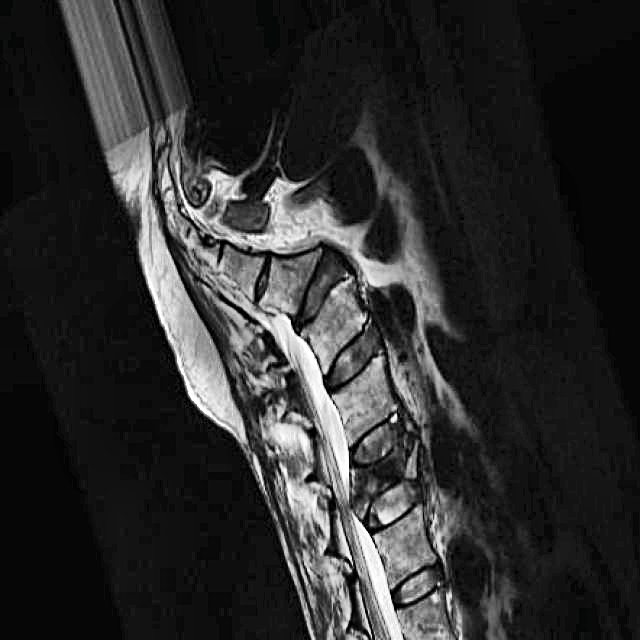Comminuted: (343, 406, 433, 541)
